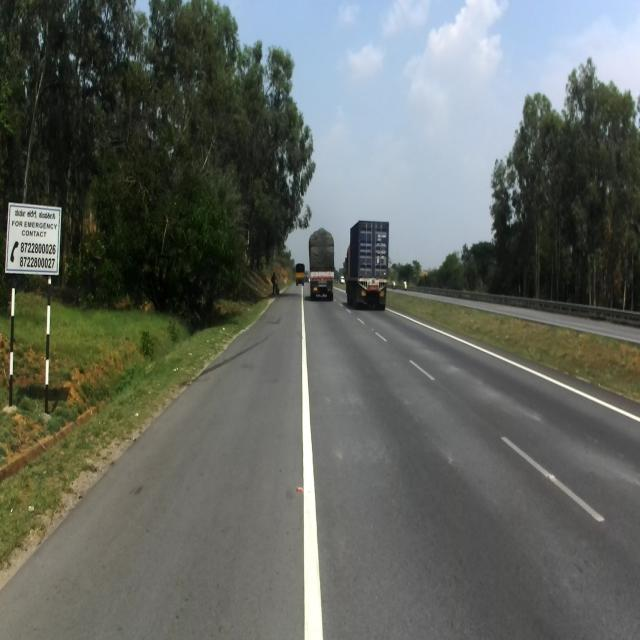truck: (345, 220, 389, 310), (308, 226, 334, 301)
